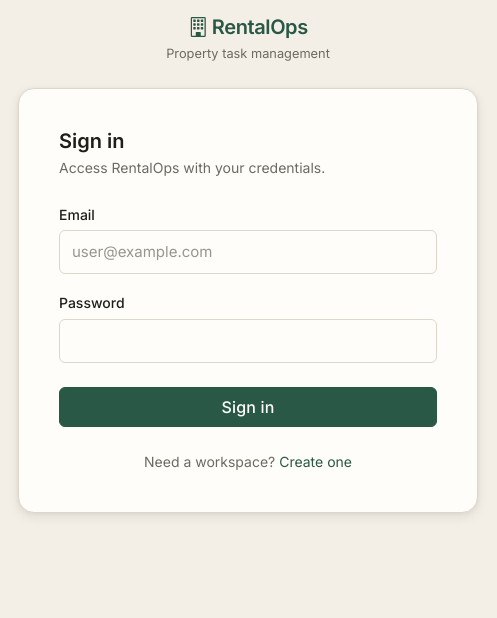
LoginPage › submits valid credentials and shows 400 validation feedback
The image size is (497, 618).
Type "admin@test.local" into the field labelled "Email" at (248, 252), box [59, 230, 437, 274]
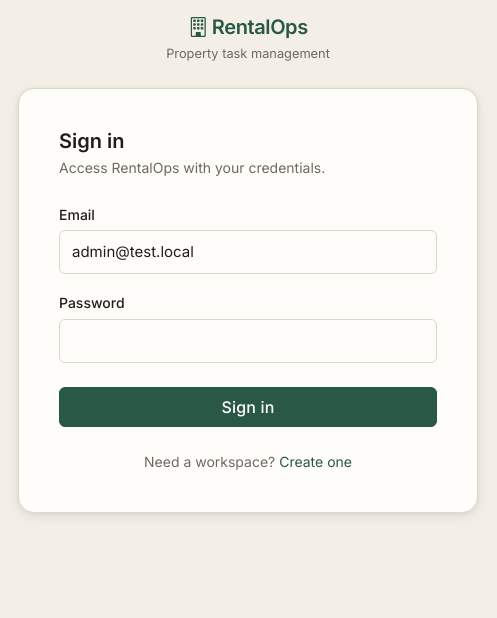
Type "secret123" into the password field labelled "Password" at (248, 341), box [59, 319, 437, 363]
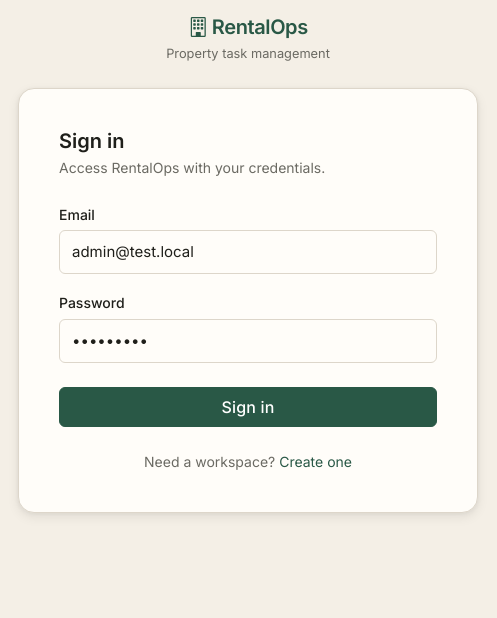
Click the button "Sign in" at (248, 407), box [59, 387, 437, 427]
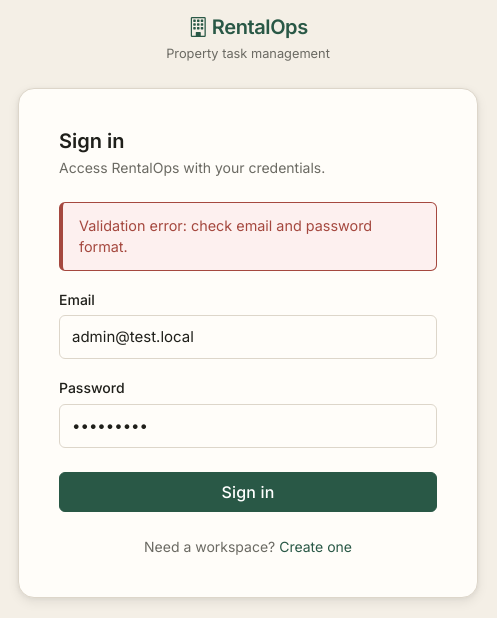
Expected: the text "Validation error: check email and password format." is shown, [59, 202, 437, 271]
